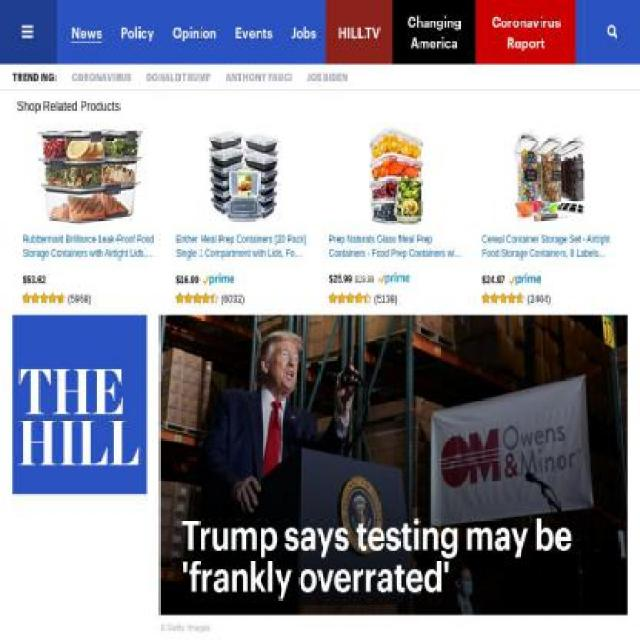button: (12, 314, 148, 494), (325, 0, 393, 65), (485, 11, 566, 52), (0, 0, 640, 5), (402, 11, 466, 52), (172, 22, 217, 42), (235, 22, 272, 42), (121, 22, 153, 42), (72, 22, 102, 42), (292, 22, 316, 42)
field: (522, 13, 560, 53), (607, 24, 618, 39)
